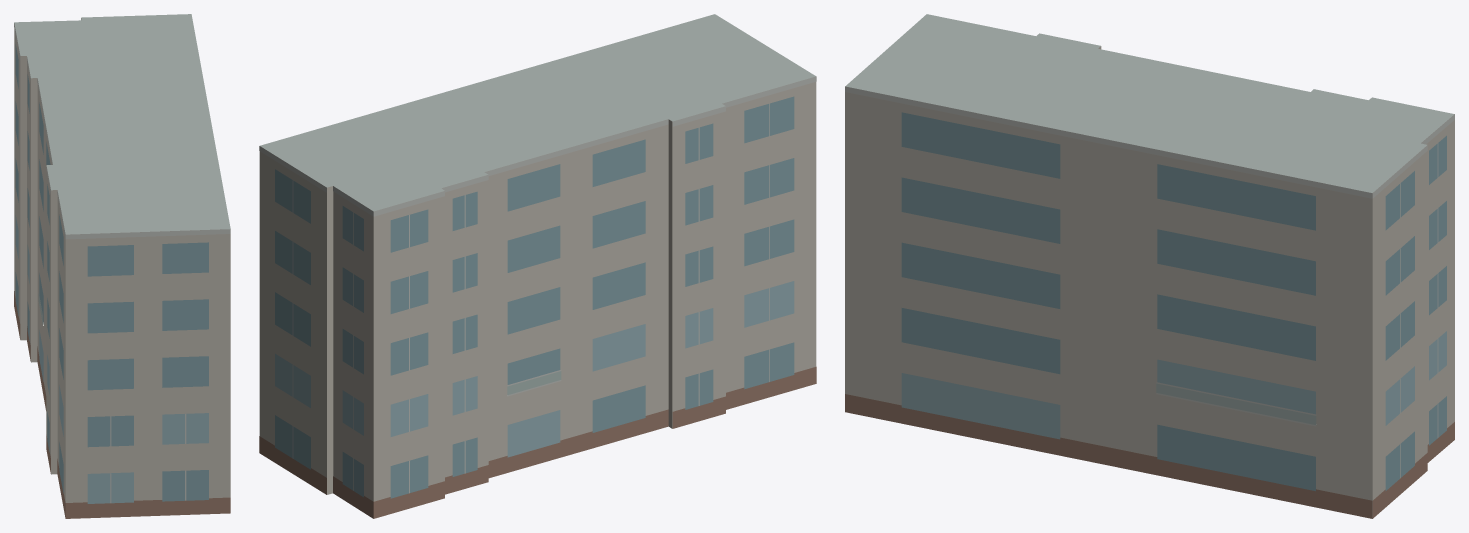
Rendered from survey-upis-32660317.glb.
3 views of the same model, side by side, from view 1: azimuth 30°, elevation 25°; view 2: azimuth 150°, elevation 25°; view 3: azimuth 270°, elevation 25° (orthographic). The views are drawn at different scales.
Visible parts, largest first — view 1: survey-upis-32660317.tmp; view 2: survey-upis-32660317.tmp; view 3: survey-upis-32660317.tmp.
Boxes of the visible parts, x1,y1,x2,y2 form: survey-upis-32660317.tmp: [14, 14, 230, 518]; survey-upis-32660317.tmp: [259, 14, 816, 518]; survey-upis-32660317.tmp: [845, 14, 1454, 518].
Size of the model in its own units: 16.76 by 14.2 by 24.1.
